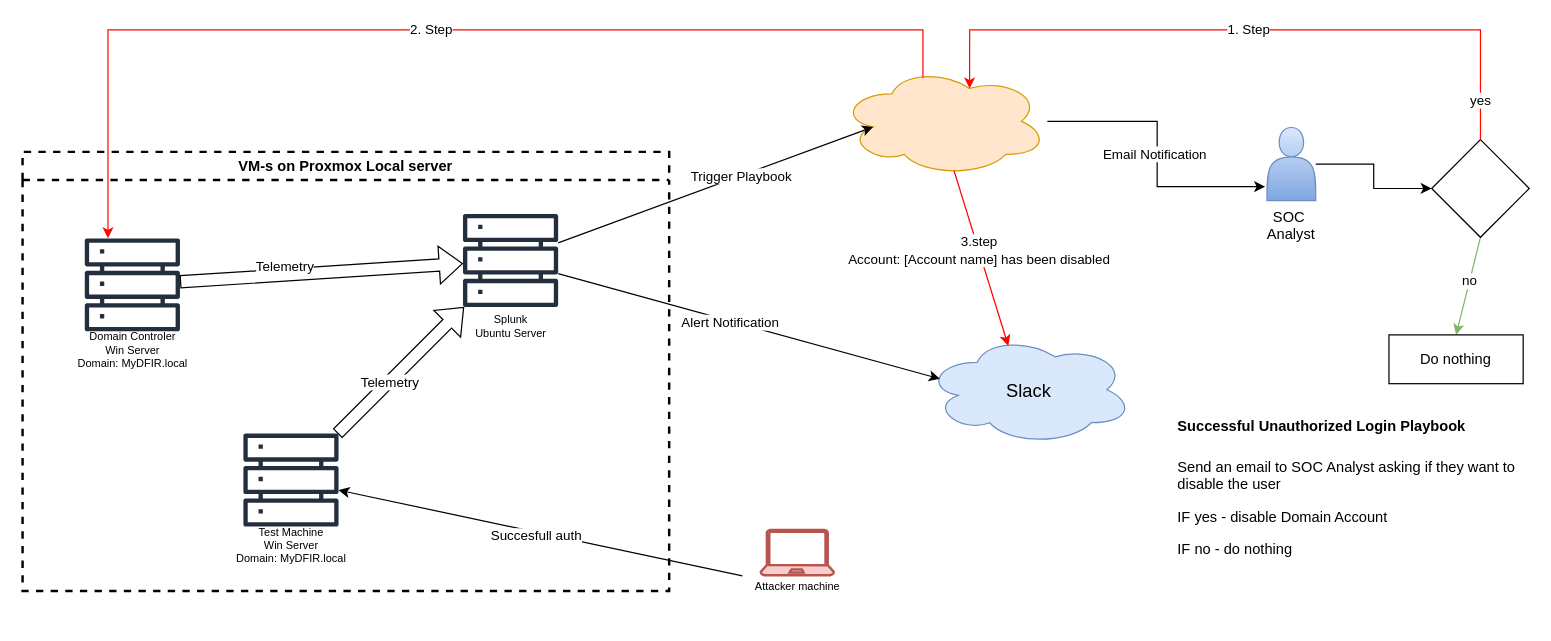
This 1551x641 diagram has some shape labels left out. The centre of each missing label's shape, as x and y in pixels:
"Disable User?" belongs at pixel 1479 187.
"Shuffle" belongs at pixel 943 120.
